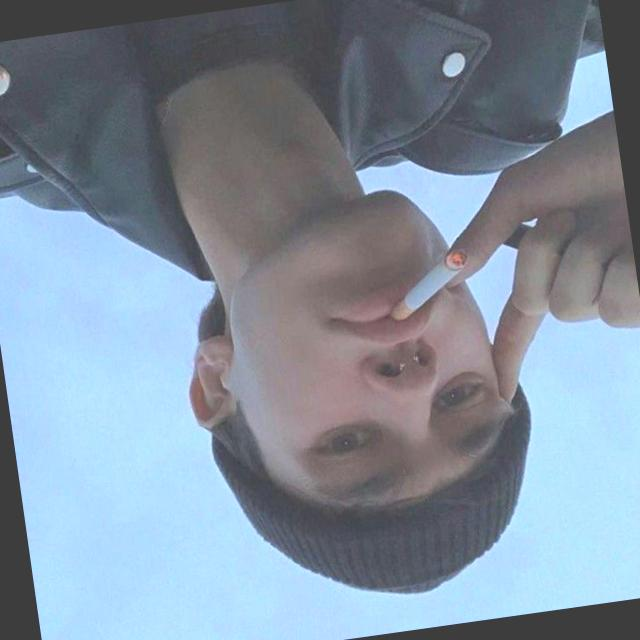cigarette: (380, 235, 486, 343)
